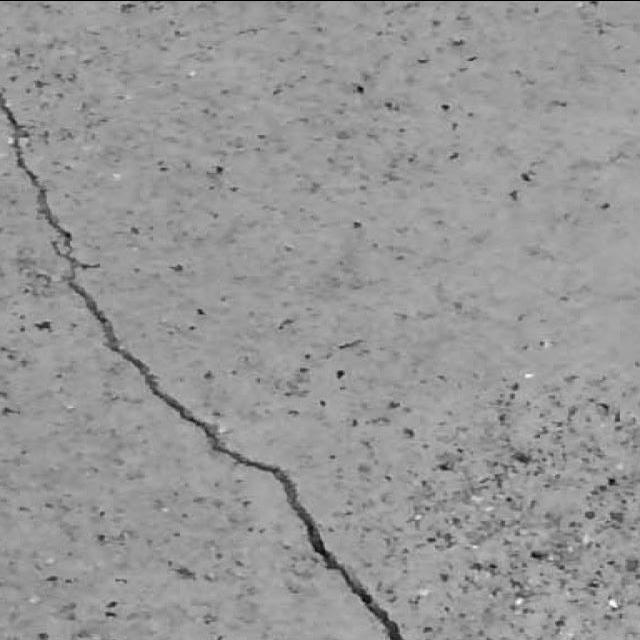SurfaceCrack: (2, 1, 628, 640)
